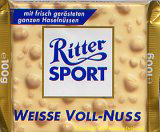grozi_67: (0, 0, 160, 131)
